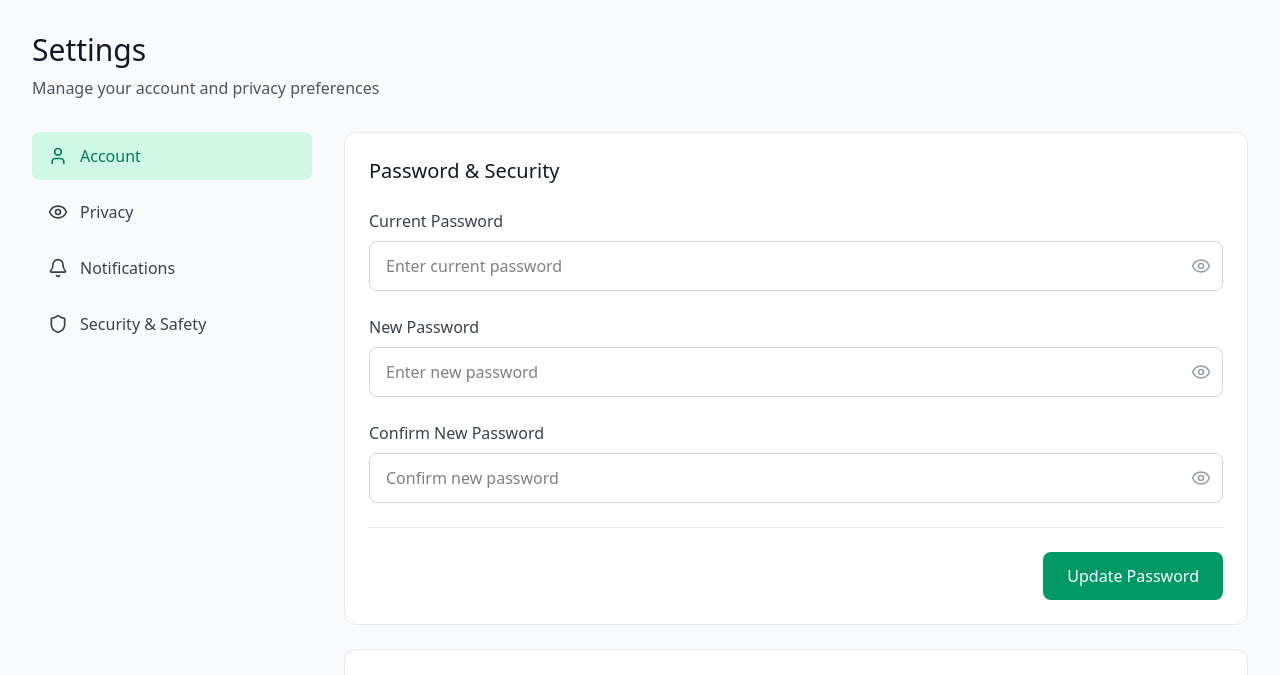
Scenario: SettingsPage - Privacy Tab › displays loaded privacy settings with correct selects
The width and height of the screenshot is (1280, 675).
Click the button "Privacy": [107, 212] box left=32, top=188, right=312, bottom=236
(page scrolled)
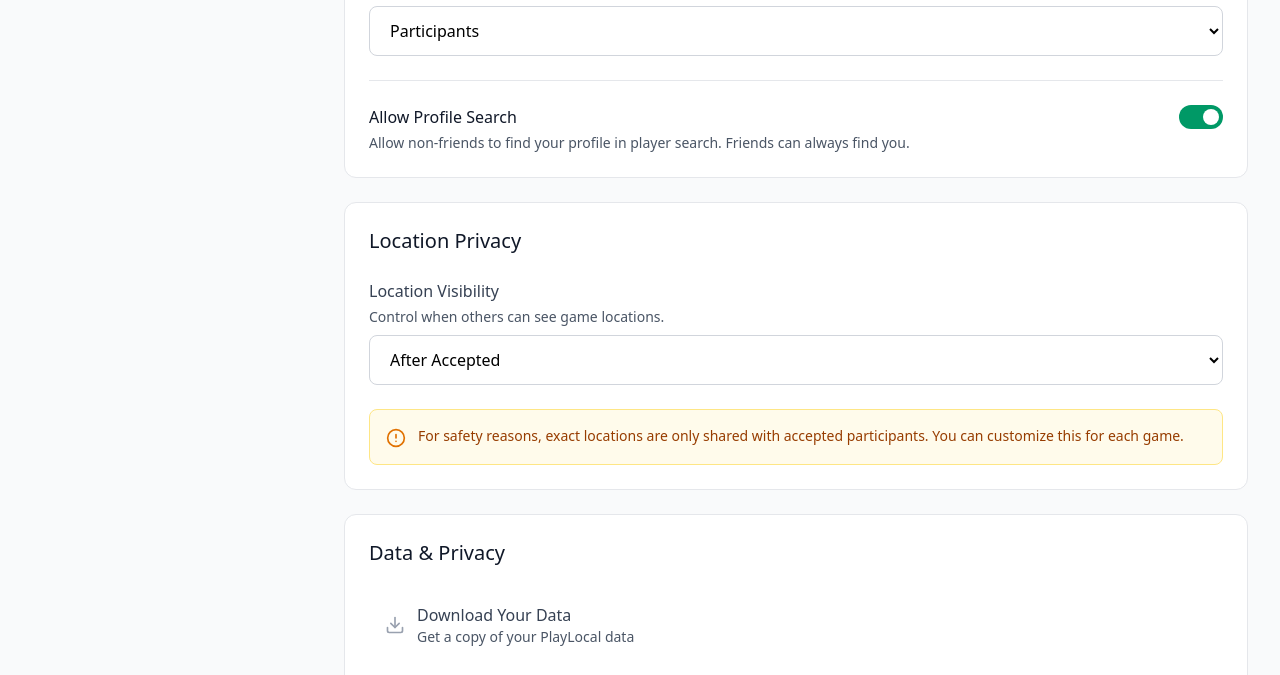
Now the text "Allow Profile Search" is shown, box left=369, top=106, right=517, bottom=128
Now the number of dropdowns is 5
Now the dropdown below "Media Default Visibility" shows "Participants", box left=369, top=6, right=1223, bottom=56
